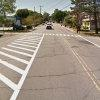Crosswalk: (5, 27, 36, 100)
